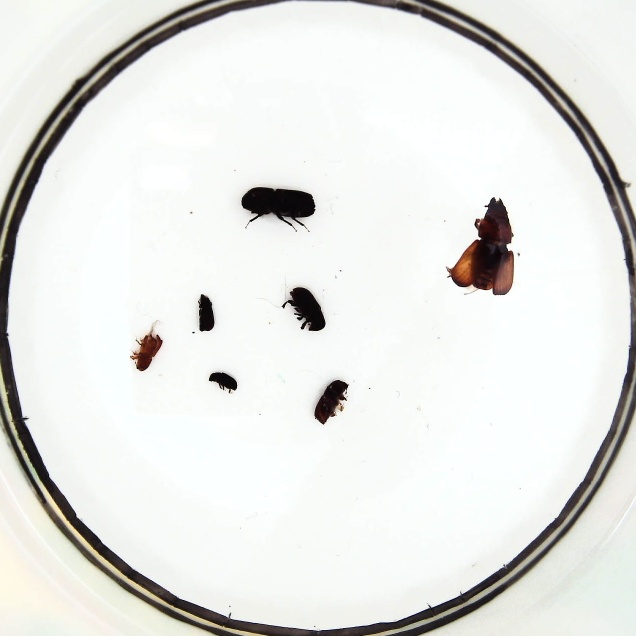acuminatus: (131, 333, 162, 371)
armandi: (315, 379, 349, 426)
boerner: (241, 185, 316, 221)
coleoptera: (208, 371, 238, 393), (197, 294, 213, 332)
leconte: (447, 197, 514, 297)
linnaeus: (288, 287, 324, 332)
